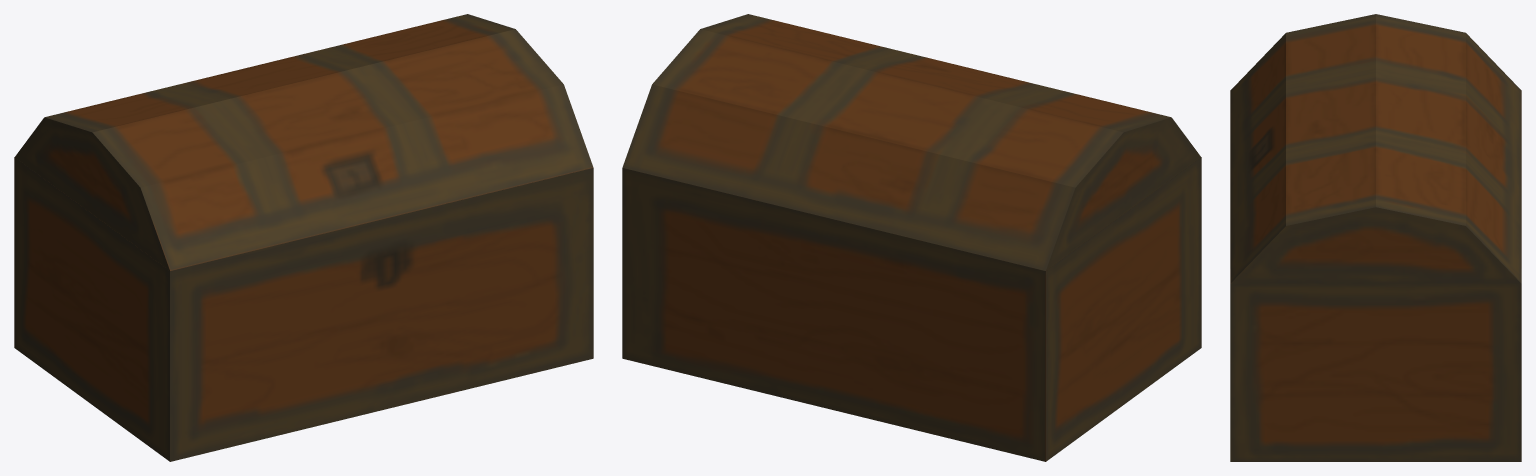
File: chest 17-56-05-645.obj
3 views of the same model, side by side, from view 1: azimuth 30°, elevation 25°; view 2: azimuth 150°, elevation 25°; view 3: azimuth 270°, elevation 25° (orthographic). The views are drawn at different scales.
Parts seen in each view (by area): view 1: obj.chest.000_Cube; view 2: obj.chest.000_Cube; view 3: obj.chest.000_Cube.
Boxes of the visible parts, left/top/right/bottom form: obj.chest.000_Cube: left=14, top=14, right=593, bottom=461; obj.chest.000_Cube: left=622, top=14, right=1201, bottom=461; obj.chest.000_Cube: left=1230, top=14, right=1521, bottom=461.
Size of the model in its own units: 0.27 by 0.166 by 0.172.
